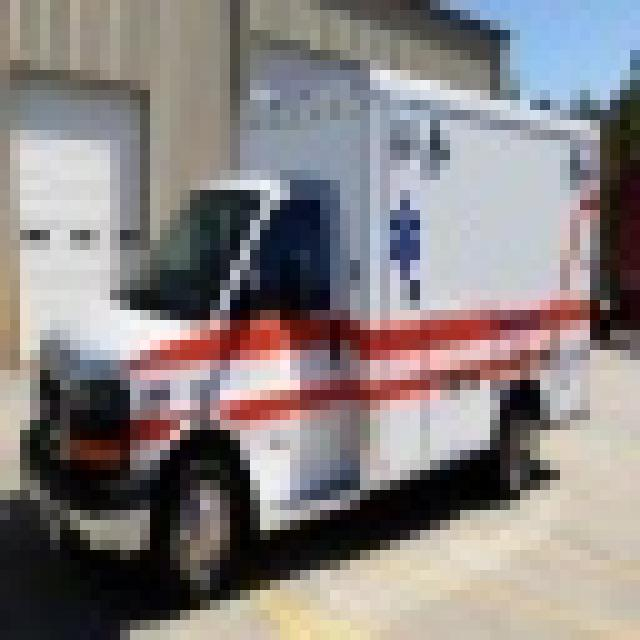Ambulance: (10, 40, 600, 600)
